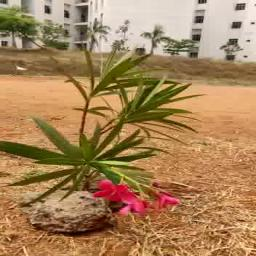OLEANDER: (0, 55, 192, 222)
